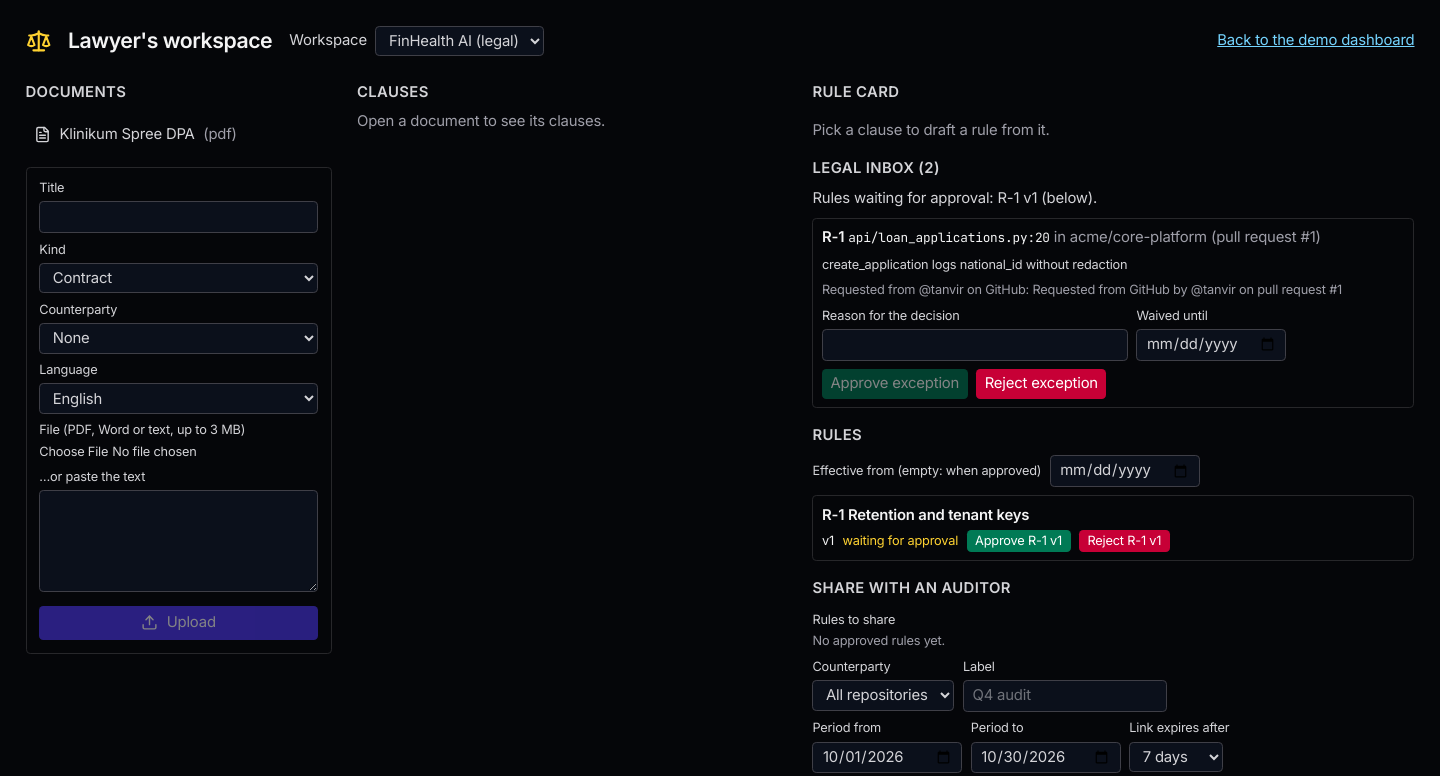
Test: lawyer's workspace › approves a draft and says how many repositories are rescanned
Click the button "Approve R-1 v1" at (1019, 541), box 967,530 -> 1070,552
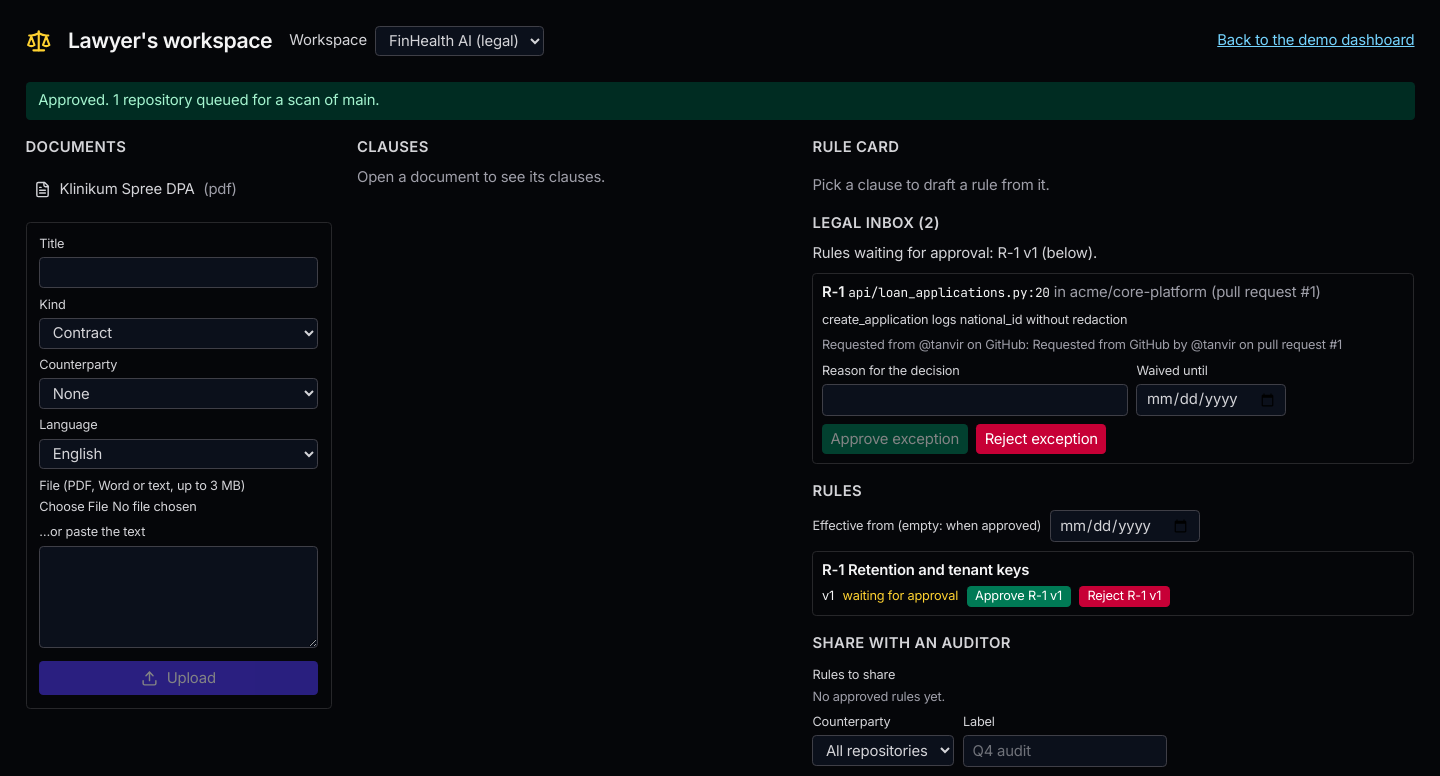
Expected: the text "Approved. 1 repository queued for a scan of main." is shown, 26,82 -> 1414,120
